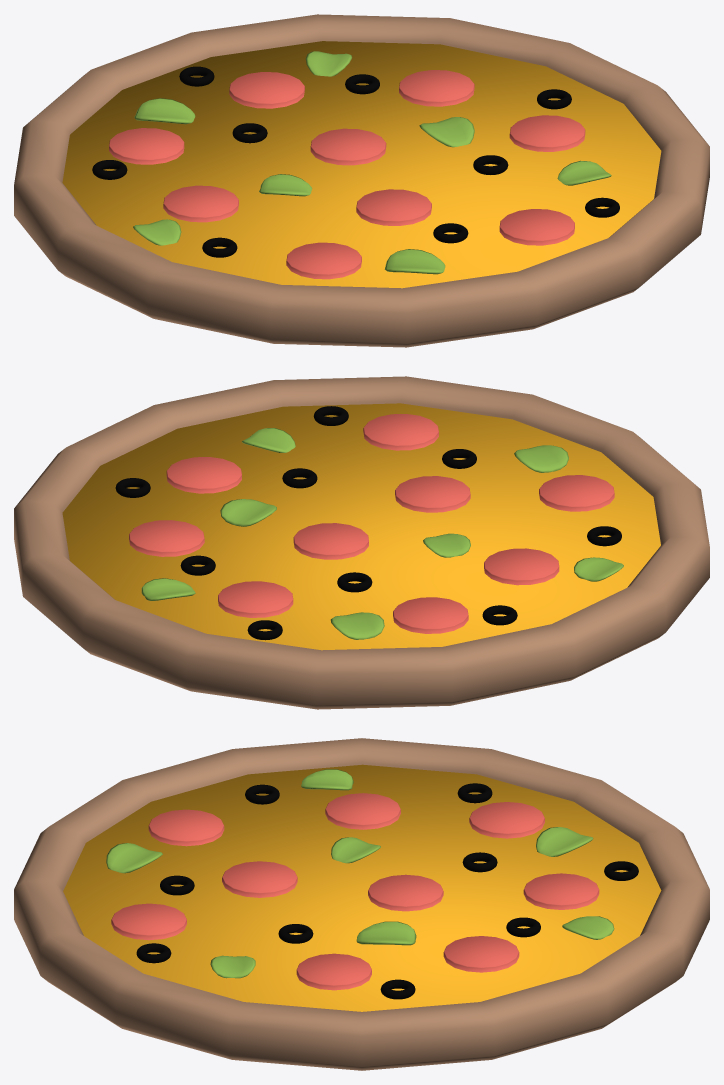
The model's file is Pizza.fbx.
3 renders of one model, top to bottom at view 1: azimuth 30°, elevation 25°; view 2: azimuth 150°, elevation 25°; view 3: azimuth 270°, elevation 25°, orthographic.
Parts seen in each view (by area): view 1: Circle.182, Circle.185, Circle.191, Circle.189, Circle.186, Circle.183, Circle.188, Circle.184, Circle.190, Circle.187, Plane.548, Plane.552 (+14 smaller); view 2: Circle.182, Circle.184, Circle.185, Circle.190, Circle.183, Circle.191, Circle.186, Circle.188, Circle.189, Circle.187, Plane.542, Plane.552 (+14 smaller); view 3: Circle.182, Circle.186, Circle.185, Circle.189, Circle.190, Circle.187, Circle.183, Circle.184, Circle.188, Circle.191, Plane.542, Plane.552 (+14 smaller).
Part boxes in pixels (box(x1,y1,x2,y2)): Circle.182: box(14, 14, 709, 347); Circle.185: box(310, 128, 386, 165); Circle.191: box(499, 209, 574, 245); Circle.189: box(356, 189, 431, 225); Circle.186: box(229, 72, 304, 108); Circle.183: box(109, 128, 184, 164); Circle.188: box(509, 115, 585, 151); Circle.184: box(163, 185, 238, 222); Circle.190: box(286, 242, 361, 279); Circle.187: box(399, 70, 474, 106); Plane.548: box(384, 249, 445, 274); Plane.552: box(134, 98, 195, 124); Circle.182: box(14, 376, 709, 709); Circle.184: box(484, 548, 559, 585); Circle.185: box(293, 523, 368, 559); Circle.190: box(539, 475, 614, 511); Circle.183: box(393, 597, 468, 633); Circle.191: box(363, 414, 438, 450); Circle.186: box(218, 581, 293, 617); Circle.188: box(166, 457, 241, 493); Circle.189: box(395, 476, 470, 512); Circle.187: box(129, 520, 204, 556); Plane.542: box(220, 499, 276, 526); Plane.552: box(330, 612, 384, 639); Circle.182: box(14, 738, 709, 1070); Circle.186: box(523, 873, 599, 909); Circle.185: box(368, 874, 443, 911); Circle.189: box(222, 861, 297, 897); Circle.190: box(148, 809, 224, 846); Circle.187: box(443, 936, 519, 972); Circle.183: box(469, 802, 544, 838); Circle.184: box(325, 793, 400, 829); Circle.188: box(296, 953, 371, 990); Circle.191: box(111, 903, 186, 940); Plane.542: box(356, 921, 416, 945); Plane.552: box(536, 827, 593, 856).
Bounding box in the file's own units: 25.59 × 1.87 × 25.59.
